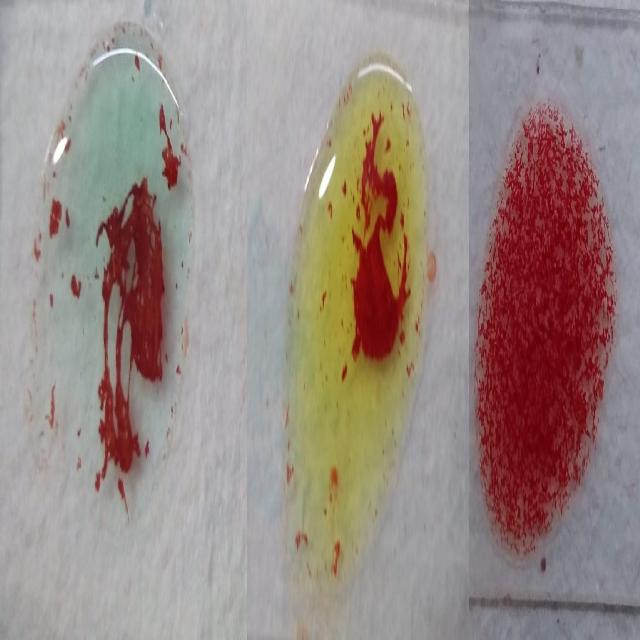A: (30, 35, 200, 538)
B: (282, 51, 421, 569)
D: (483, 91, 609, 557)
